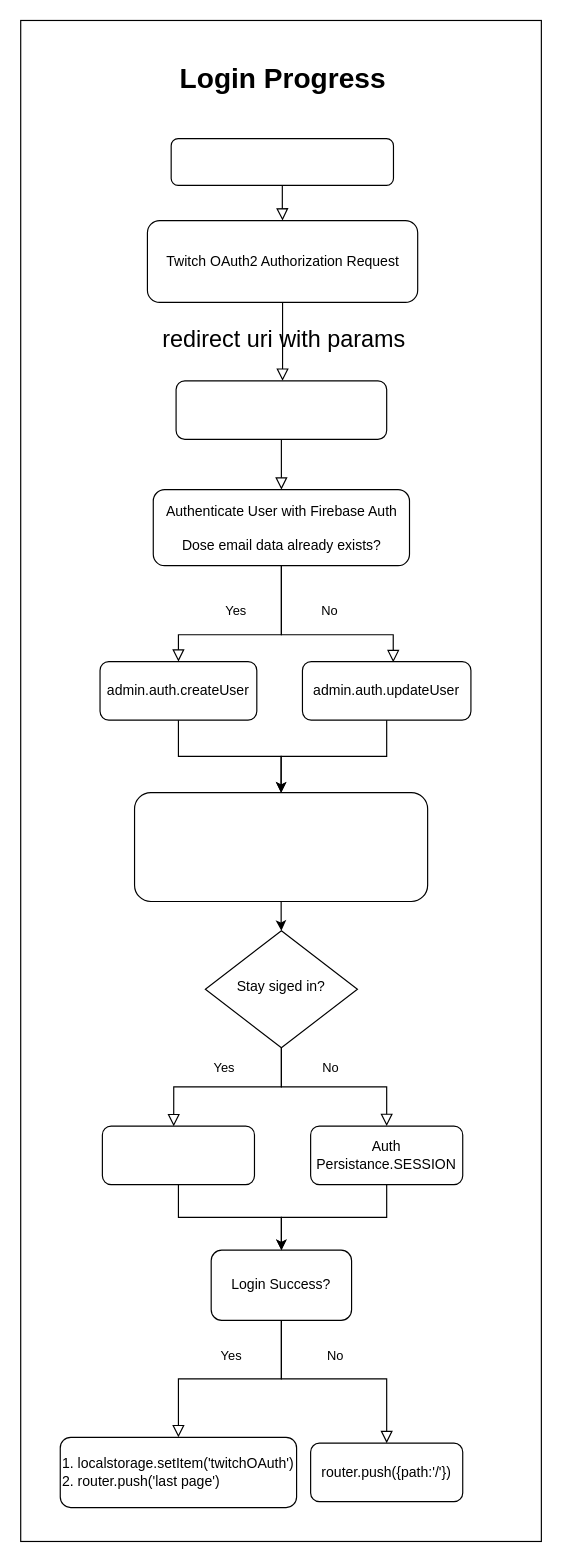
Some shapes in this 562 by 1562 pixel diagram are drawn without their labels. The shapes that lost their labels are listed below. From the top down, each one's centre as x and y in pixels, then its label:
At point 281,161: "Login with Twitch Socail Login".
At point 281,409: "Get user info from Twitch api".
At point 280,846: "res.send with params [Firebase Auth Token, Twitch OAuth Token, User Info]".
At point 177,1155: "Auth Persistance.LOCAL".
